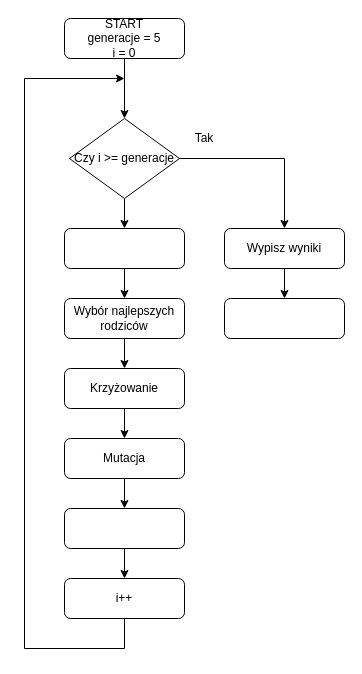
The diagram is 362 pixels wide and 674 high, and some of its shapes have lost their labels. The shapes that lost their labels are listed below. From the top down, each one's centre as x and y in pixels, then its label:
point 124,248: Ocena jakości
point 284,318: STOP
point 124,528: Selekcja
